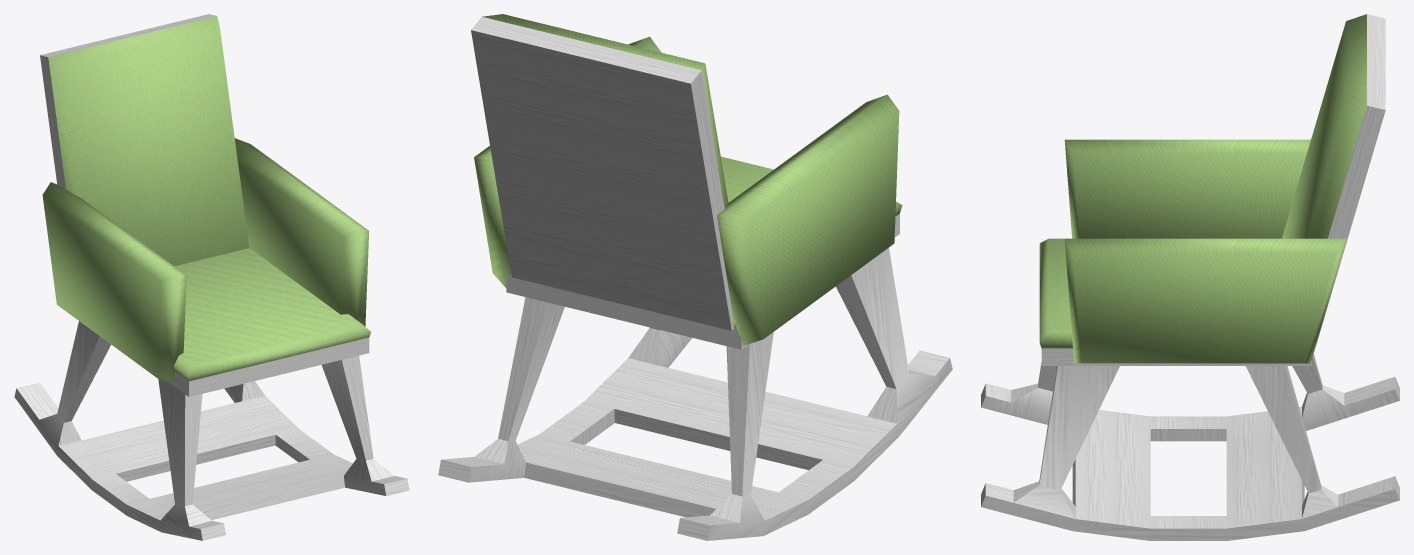
The model's file is Rocker_C.FBX.
The picture shows the model from 3 angles, left to right: view 1: azimuth 30°, elevation 25°; view 2: azimuth 150°, elevation 25°; view 3: azimuth 270°, elevation 25°; orthographic projection. The views are drawn at different scales.
Visible parts, largest first — view 1: Rocker; view 2: Rocker; view 3: Rocker.
Boxes of the visible parts, left/top/right/bottom form: Rocker: left=14, top=14, right=409, bottom=540; Rocker: left=438, top=14, right=952, bottom=540; Rocker: left=981, top=14, right=1399, bottom=540.
Size of the model in its own units: 99.55 by 175 by 156.
